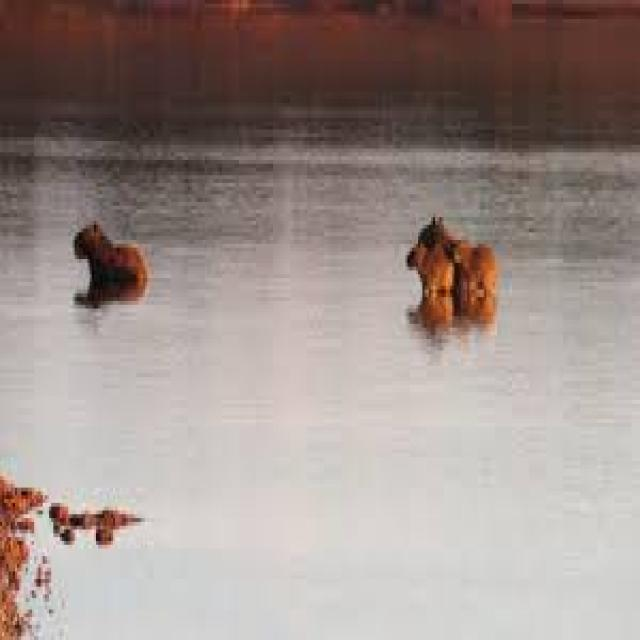capy: (72, 218, 147, 303)
